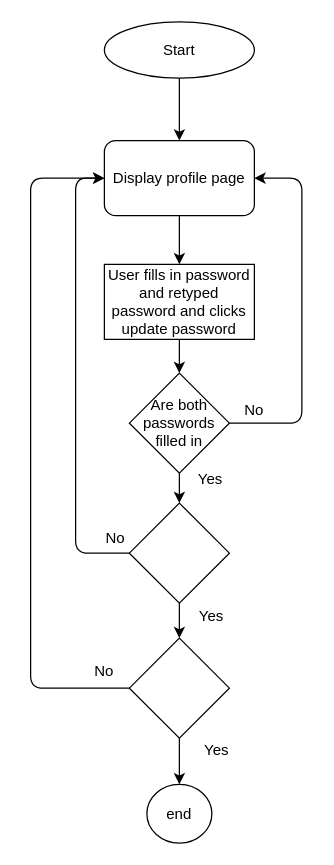
This 334x865 diagram has some shape labels left out. Each missing label, with the centre of its shape:
Are both passwords the same: [178,552]
Valid password: [178,687]
